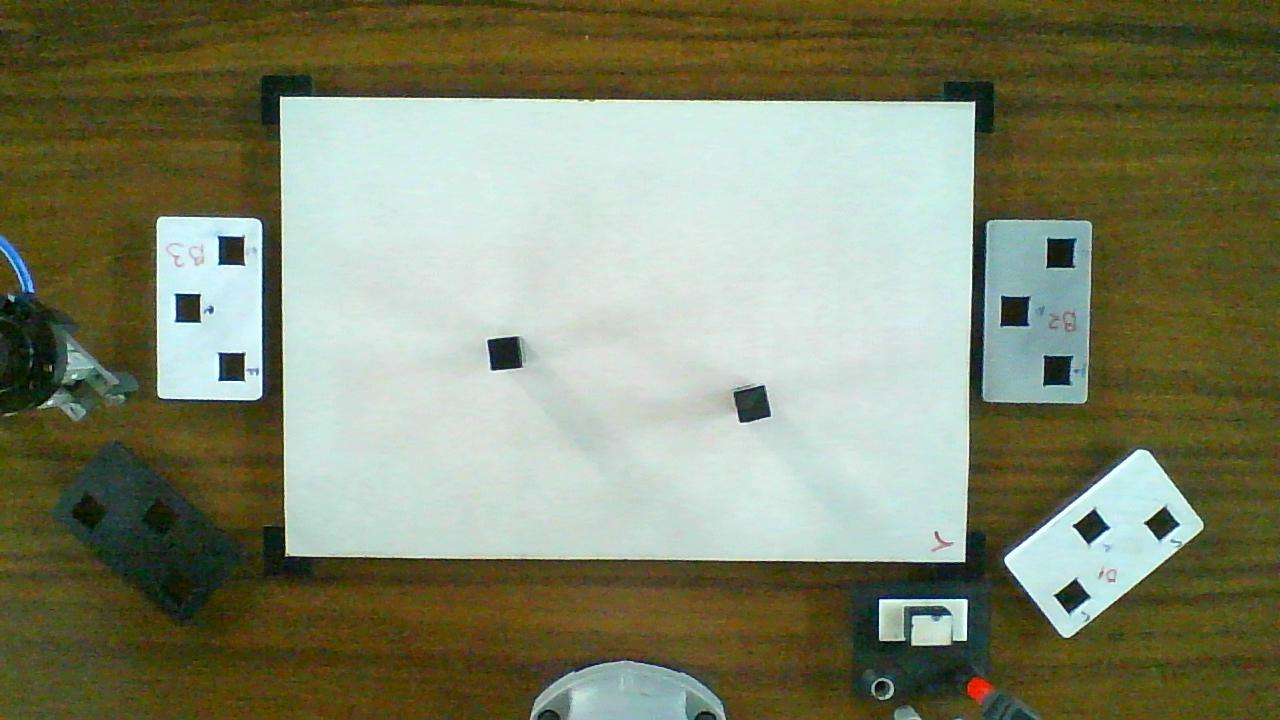peca_preta: (735, 387, 771, 423), (489, 338, 521, 369)
